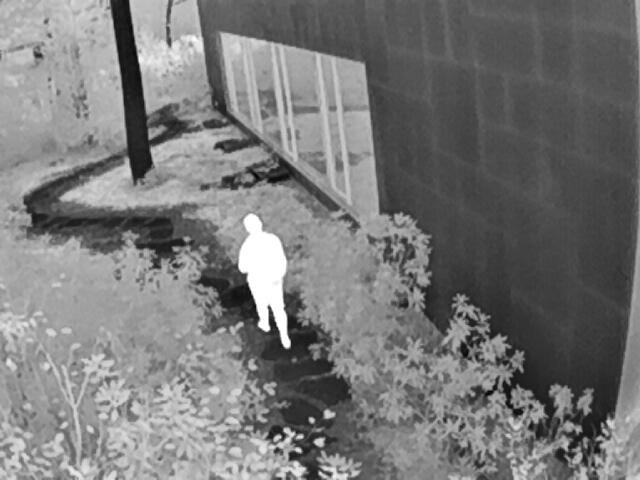person: (235, 214, 291, 348)
